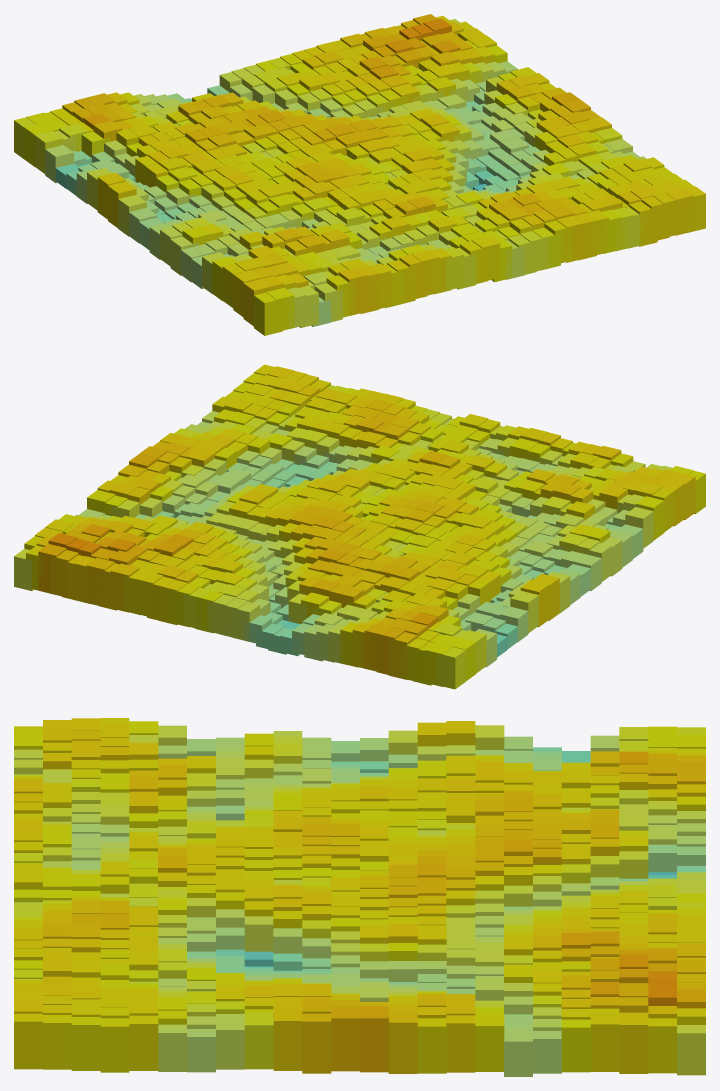
Rendered from population.glb.
3 views of the same model, one above another, from view 1: azimuth 30°, elevation 25°; view 2: azimuth 150°, elevation 25°; view 3: azimuth 270°, elevation 25° (orthographic). The views are drawn at different scales.
Visible parts, largest first — view 1: population; view 2: population; view 3: population.
Boxes of the visible parts, left/top/right/bottom form: population: left=14, top=14, right=705, bottom=335; population: left=14, top=364, right=705, bottom=689; population: left=14, top=718, right=705, bottom=1076.
Size of the model in its own units: 2438 by 244 by 2398.
